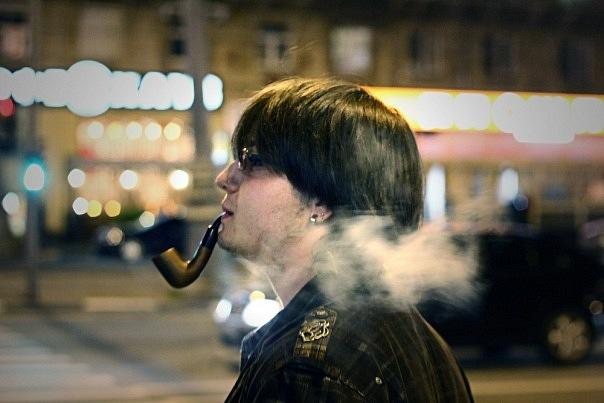trubka: (152, 214, 222, 288)
